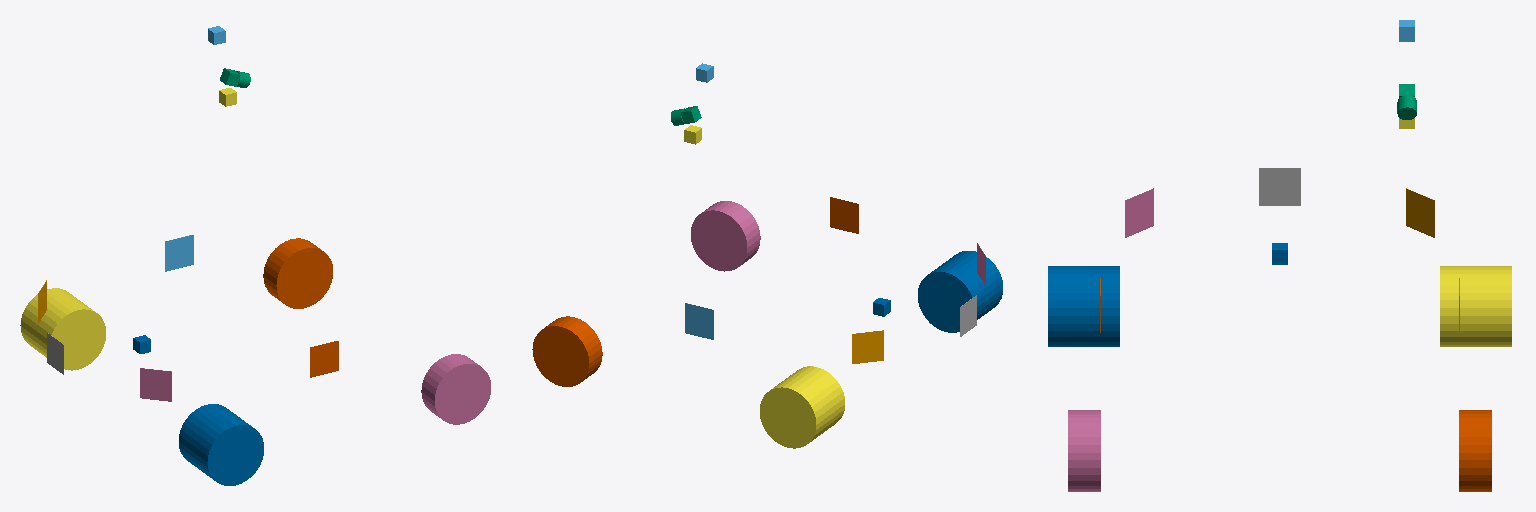
robot.urdf — rigatoni:
<?xml version="1.0" ?>
<!-- =================================================================================== -->
<!-- |    This document was autogenerated by xacro from rigatoni.urdf.xacro            | -->
<!-- |    EDITING THIS FILE BY HAND IS NOT RECOMMENDED                                 | -->
<!-- =================================================================================== -->
<robot name="rigatoni">
  <!-- <xacro:include filename="$(find velodyne_description)/urdf/VLP-16.urdf.xacro"/> -->
  <!-- <xacro:include filename="$(find rr_description)/" -->
  <!-- ************************** Links *************************** -->
  <link name="base_footprint">
    <inertial>
      <mass value="0.0001"/>
      <inertia ixx="0.0001" ixy="0" ixz="0" iyy="0.0001" iyz="0" izz="0.0001"/>
    </inertial>
  </link>
  <link name="body_visual_origin">
    <inertial>
      <mass value="0.0001"/>
      <inertia ixx="0.0001" ixy="0" ixz="0" iyy="0.0001" iyz="0" izz="0.0001"/>
    </inertial>
    <visual>
      <geometry>
        <!-- <mesh filename="$(find rr_description)/meshes/rigatoni.stl" scale="0.01 0.01 0.01"/> -->
      </geometry>
    </visual>
    <!--            <collision>-->
    <!--                <xacro:mesh_geometry/>-->
    <!--            </collision>-->
  </link>
  <gazebo reference="body_visual_origin">
    <material>Gazebo/Grey</material>
  </gazebo>
  <gazebo reference="body_visual_origin">
    <collision>
      <surface>
        <contact>
          <collide_bitmask>0x1</collide_bitmask>
        </contact>
      </surface>
    </collision>
  </gazebo>
  <link name="body_inertial_center">
    <inertial>
      <mass value="50"/>
      <inertia ixx="0.5" ixy="0" ixz="0" iyy="0.75" iyz="0" izz="0.5"/>
    </inertial>
  </link>
  <gazebo reference="body_inertial_center"/>
  <!-- ************************** Joints *************************** -->
  <joint name="base_footprint_to_mesh_origin" type="fixed">
    <parent link="base_footprint"/>
    <child link="body_visual_origin"/>
    <origin rpy="1.5707963267948966 0 1.5707963267948966" xyz="0.53 0 -0.05"/>
  </joint>
  <joint name="base_footprint_to_body_inertial_center" type="fixed">
    <parent link="base_footprint"/>
    <child link="body_inertial_center"/>
    <origin xyz="0.4 0 0.1"/>
  </joint>
  <link name="wheel_BL">
    <inertial>
      <mass value="0.01"/>
      <inertia ixx="0.001" ixy="0" ixz="0" iyy="0.001" iyz="0" izz="0.0078125"/>
    </inertial>
    <visual>
      <geometry>
        <cylinder length="0.22" radius="0.125"/>
      </geometry>
    </visual>
    <collision>
      <geometry>
        <cylinder length="0.22" radius="0.125"/>
      </geometry>
    </collision>
  </link>
  <gazebo reference="wheel_BL">
    <mu1>0.7</mu1>
    <mu2>0.7</mu2>
    <kp>1000000</kp>
    <kd>1000000</kd>
    <collision>
      <surface>
        <contact>
          <collide_bitmask>0x1</collide_bitmask>
        </contact>
      </surface>
    </collision>
  </gazebo>
  <gazebo reference="wheel_BL">
    <material>Gazebo/Black</material>
  </gazebo>
  <link name="wheel_BR">
    <inertial>
      <mass value="0.01"/>
      <inertia ixx="0.001" ixy="0" ixz="0" iyy="0.001" iyz="0" izz="0.0078125"/>
    </inertial>
    <visual>
      <geometry>
        <cylinder length="0.22" radius="0.125"/>
      </geometry>
    </visual>
    <collision>
      <geometry>
        <cylinder length="0.22" radius="0.125"/>
      </geometry>
    </collision>
  </link>
  <gazebo reference="wheel_BR">
    <mu1>0.7</mu1>
    <mu2>0.7</mu2>
    <kp>1000000</kp>
    <kd>1000000</kd>
    <collision>
      <surface>
        <contact>
          <collide_bitmask>0x1</collide_bitmask>
        </contact>
      </surface>
    </collision>
  </gazebo>
  <gazebo reference="wheel_BR">
    <material>Gazebo/Black</material>
  </gazebo>
  <link name="wheel_FL">
    <inertial>
      <mass value="0.01"/>
      <inertia ixx="0.001" ixy="0" ixz="0" iyy="0.001" iyz="0" izz="0.0078125"/>
    </inertial>
    <visual>
      <geometry>
        <cylinder length="0.1" radius="0.125"/>
      </geometry>
    </visual>
    <collision>
      <geometry>
        <cylinder length="0.1" radius="0.125"/>
      </geometry>
    </collision>
  </link>
  <gazebo reference="wheel_FL">
    <mu1>0.7</mu1>
    <mu2>0.7</mu2>
    <kp>1000000</kp>
    <kd>1000000</kd>
    <collision>
      <surface>
        <contact>
          <collide_bitmask>0x1</collide_bitmask>
        </contact>
      </surface>
    </collision>
  </gazebo>
  <gazebo reference="wheel_FL">
    <material>Gazebo/Black</material>
  </gazebo>
  <link name="wheel_FR">
    <inertial>
      <mass value="0.01"/>
      <inertia ixx="0.001" ixy="0" ixz="0" iyy="0.001" iyz="0" izz="0.0078125"/>
    </inertial>
    <visual>
      <geometry>
        <cylinder length="0.1" radius="0.125"/>
      </geometry>
    </visual>
    <collision>
      <geometry>
        <cylinder length="0.1" radius="0.125"/>
      </geometry>
    </collision>
  </link>
  <gazebo reference="wheel_FR">
    <mu1>0.7</mu1>
    <mu2>0.7</mu2>
    <kp>1000000</kp>
    <kd>1000000</kd>
    <collision>
      <surface>
        <contact>
          <collide_bitmask>0x1</collide_bitmask>
        </contact>
      </surface>
    </collision>
  </gazebo>
  <gazebo reference="wheel_FR">
    <material>Gazebo/Black</material>
  </gazebo>
  <link name="steering_link_left">
    <inertial>
      <mass value="0.0001"/>
      <inertia ixx="0.0001" ixy="0" ixz="0" iyy="0.0001" iyz="0" izz="0.0001"/>
    </inertial>
  </link>
  <link name="steering_link_right">
    <inertial>
      <mass value="0.0001"/>
      <inertia ixx="0.0001" ixy="0" ixz="0" iyy="0.0001" iyz="0" izz="0.0001"/>
    </inertial>
  </link>
  <link name="gps_link">
    <inertial>
      <mass value="0.0001"/>
      <inertia ixx="0.0001" ixy="0" ixz="0" iyy="0.0001" iyz="0" izz="0.0001"/>
    </inertial>
    <visual>
      <geometry>
        <box size="0.05 0.05 0.05"/>
      </geometry>
    </visual>
  </link>
  <gazebo reference="gps_link">
    <material>Gazebo/Gold</material>
  </gazebo>
  <link name="camera">
    <inertial>
      <mass value="0.0001"/>
      <inertia ixx="0.0001" ixy="0" ixz="0" iyy="0.0001" iyz="0" izz="0.0001"/>
    </inertial>
    <visual>
      <geometry>
        <box size="0.05 0.05 0.05"/>
      </geometry>
    </visual>
    <visual>
      <origin rpy="0 1.5707963267948966 0" xyz="0.05 0 0"/>
      <geometry>
        <cylinder length="0.05" radius="0.03"/>
      </geometry>
    </visual>
  </link>
  <gazebo reference="camera">
    <material>Gazebo/Gold</material>
  </gazebo>
  <link name="imu_top_link">
    <inertial>
      <mass value="0.0001"/>
      <inertia ixx="0.0001" ixy="0" ixz="0" iyy="0.0001" iyz="0" izz="0.0001"/>
    </inertial>
    <visual>
      <geometry>
        <box size="0.05 0.05 0.05"/>
      </geometry>
    </visual>
  </link>
  <gazebo reference="imu_top_link">
    <material>Gazebo/Gold</material>
  </gazebo>
  <link name="imu_bottom_link">
    <inertial>
      <mass value="0.0001"/>
      <inertia ixx="0.0001" ixy="0" ixz="0" iyy="0.0001" iyz="0" izz="0.0001"/>
    </inertial>
    <visual>
      <geometry>
        <box size="0.05 0.05 0.05"/>
      </geometry>
    </visual>
  </link>
  <gazebo reference="imu_bottom_link">
    <material>Gazebo/Gold</material>
  </gazebo>
  <link name="april_2">
    <inertial>
      <mass value="0.0001"/>
      <inertia ixx="0.0001" ixy="0" ixz="0" iyy="0.0001" iyz="0" izz="0.0001"/>
    </inertial>
    <visual>
      <geometry>
        <box size="0.001 0.127 0.127 "/>
      </geometry>
    </visual>
  </link>
  <gazebo reference="april_2">
    <material>tag36_11_00052</material>
  </gazebo>
  <link name="april_3">
    <inertial>
      <mass value="0.0001"/>
      <inertia ixx="0.0001" ixy="0" ixz="0" iyy="0.0001" iyz="0" izz="0.0001"/>
    </inertial>
    <visual>
      <geometry>
        <box size="0.001 0.127 0.127 "/>
      </geometry>
    </visual>
  </link>
  <gazebo reference="april_3">
    <material>tag36_11_00053</material>
  </gazebo>
  <link name="april_4">
    <inertial>
      <mass value="0.0001"/>
      <inertia ixx="0.0001" ixy="0" ixz="0" iyy="0.0001" iyz="0" izz="0.0001"/>
    </inertial>
    <visual>
      <geometry>
        <box size="0.001 0.127 0.127 "/>
      </geometry>
    </visual>
  </link>
  <gazebo reference="april_4">
    <material>tag36_11_00054</material>
  </gazebo>
  <link name="april_5">
    <inertial>
      <mass value="0.0001"/>
      <inertia ixx="0.0001" ixy="0" ixz="0" iyy="0.0001" iyz="0" izz="0.0001"/>
    </inertial>
    <visual>
      <geometry>
        <box size="0.001 0.127 0.127 "/>
      </geometry>
    </visual>
  </link>
  <gazebo reference="april_5">
    <material>tag36_11_00055</material>
  </gazebo>
  <link name="april_6">
    <inertial>
      <mass value="0.0001"/>
      <inertia ixx="0.0001" ixy="0" ixz="0" iyy="0.0001" iyz="0" izz="0.0001"/>
    </inertial>
    <visual>
      <geometry>
        <box size="0.001 0.127 0.127 "/>
      </geometry>
    </visual>
  </link>
  <gazebo reference="april_6">
    <material>tag36_11_00056</material>
  </gazebo>
  <!-- ************************** Joints *************************** -->
  <joint name="base_footprint_to_wheel_BL" type="continuous">
    <parent link="base_footprint"/>
    <child link="wheel_BL"/>
    <origin rpy="-1.5707963267948966 0 0" xyz="0 0.6 0.0325"/>
    <axis xyz="0 0 1"/>
  </joint>
  <gazebo reference="base_footprint_to_wheel_BL"/>
  <joint name="base_footprint_to_wheel_BR" type="continuous">
    <parent link="base_footprint"/>
    <child link="wheel_BR"/>
    <origin rpy="-1.5707963267948966 0 0" xyz="0 -0.6 0.0325"/>
    <axis xyz="0 0 1"/>
  </joint>
  <gazebo reference="base_footprint_to_wheel_BR"/>
  <joint name="base_footprint_to_steering_link_left" type="revolute">
    <parent link="base_footprint"/>
    <child link="steering_link_left"/>
    <origin rpy="0 0 0" xyz="1.03 0.6 0.0625"/>
    <axis xyz="0 0 1"/>
    <limit effort="10000.0" lower="-0.3" upper="0.3" velocity="2.0"/>
  </joint>
  <gazebo reference="base_footprint_to_steering_link_left"/>
  <joint name="steering_link_left_to_wheel_FL" type="continuous">
    <origin rpy="1.5707963267948966 0 0" xyz="0 0 -0.037"/>
    <parent link="steering_link_left"/>
    <child link="wheel_FL"/>
    <axis xyz="0 0 1"/>
  </joint>
  <gazebo reference="steering_link_left_to_wheel_FL"/>
  <joint name="base_footprint_to_steering_link_right" type="revolute">
    <parent link="base_footprint"/>
    <child link="steering_link_right"/>
    <origin rpy="0 0 0" xyz="1.03 -0.6 0.0625"/>
    <axis xyz="0 0 1"/>
    <limit effort="10000.0" lower="-0.3" upper="0.3" velocity="2.0"/>
  </joint>
  <gazebo reference="base_footprint_to_steering_link_right"/>
  <joint name="steering_link_right_to_wheel_FR" type="continuous">
    <origin rpy="1.5707963267948966 0 0" xyz="0 0 -0.037"/>
    <parent link="steering_link_right"/>
    <child link="wheel_FR"/>
    <axis xyz="0 0 1"/>
  </joint>
  <gazebo reference="steering_link_right_to_wheel_FR"/>
  <link name="camera_optical">
    <inertial>
      <mass value="0.0001"/>
      <inertia ixx="0.0001" ixy="0" ixz="0" iyy="0.0001" iyz="0" izz="0.0001"/>
    </inertial>
  </link>
  <joint name="camera_to_optical" type="fixed">
    <parent link="camera"/>
    <child link="camera_optical"/>
    <origin rpy="-1.5707963267948966 0 -1.5707963267948966" xyz="0 0 0"/>
  </joint>
  <joint name="base_footprint_to_gps_link" type="fixed">
    <parent link="base_footprint"/>
    <child link="gps_link"/>
    <origin rpy="0 0 0" xyz="0.55 0.39 1.22"/>
  </joint>
  <joint name="base_footprint_to_camera" type="fixed">
    <parent link="base_footprint"/>
    <child link="camera"/>
    <origin rpy="0 0.4 0" xyz="0.61 0.39 1.03"/>
  </joint>
  <joint name="base_footprint_to_imu_bottom_link" type="fixed">
    <parent link="base_footprint"/>
    <child link="imu_bottom_link"/>
    <origin rpy="0 0 0" xyz="0 0 0.21"/>
  </joint>
  <joint name="base_footprint_to_imu_top_link" type="fixed">
    <parent link="base_footprint"/>
    <child link="imu_top_link"/>
    <origin rpy="0 0 0" xyz="0.60 0.39 0.95"/>
  </joint>
  <joint name="base_footprint_to_april_2" type="fixed">
    <parent link="base_footprint"/>
    <child link="april_2"/>
    <origin rpy="0 0 1.5707963267948966" xyz=".48  -0.55 0.26"/>
  </joint>
  <joint name="base_footprint_to_april_3" type="fixed">
    <parent link="base_footprint"/>
    <child link="april_3"/>
    <origin rpy="0 0 0.7853981633974483" xyz="-.19 -0.43 0.26"/>
  </joint>
  <joint name="base_footprint_to_april_4" type="fixed">
    <parent link="base_footprint"/>
    <child link="april_4"/>
    <origin rpy="0 0 0" xyz="-.38  0    0.26"/>
  </joint>
  <joint name="base_footprint_to_april_5" type="fixed">
    <parent link="base_footprint"/>
    <child link="april_5"/>
    <origin rpy="0 0 -0.7853981633974483" xyz="-.19  0.43 0.26"/>
  </joint>
  <joint name="base_footprint_to_april_6" type="fixed">
    <parent link="base_footprint"/>
    <child link="april_6"/>
    <origin rpy="0 0 1.5707963267948966" xyz=".48   0.55 0.26"/>
  </joint>
  <!-- ******************* Sensors *********************** -->
  <!-- Velodyne Puck VLP-16 -->
  <!-- <xacro:VLP-16 parent="base_footprint" name="lidar" topic="/velodyne_points" hz="10" samples="500" gpu="true">
        <origin xyz="1.175 0 0.175" rpy="0 0 0" />
    </xacro:VLP-16> -->
  <!-- FLIR Blackfly + wide-angle lens -->
  <gazebo reference="camera">
    <sensor name="camera_sensor" type="camera">
      <camera>
        <horizontal_fov>1.6955</horizontal_fov>
        <image>
          <width>1280</width>
          <height>964</height>
          <format>R8G8B8</format>
        </image>
        <clip>
          <near>0.05</near>
          <far>100</far>
        </clip>
        <noise>
          <type>gaussian</type>
          <mean>0.0</mean>
          <stddev>0.007</stddev>
        </noise>
      </camera>
      <always_on>true</always_on>
      <update_rate>15</update_rate>
      <plugin filename="libgazebo_ros_camera.so" name="camera_controller">
        <alwaysOn>true</alwaysOn>
        <cameraName>camera</cameraName>
        <imageTopicName>image_color_rect</imageTopicName>
        <cameraInfoTopicName>camera_info</cameraInfoTopicName>
        <frameName>camera_optical</frameName>
        <distortionK1>0.0</distortionK1>
        <distortionK2>0.0</distortionK2>
        <distortionK3>0.0</distortionK3>
        <distortionT1>0.0</distortionT1>
        <distortionT2>0.0</distortionT2>
      </plugin>
    </sensor>
  </gazebo>
  <!-- IMU -->
  <gazebo reference="imu_top_link">
    <gravity>true</gravity>
    <sensor name="imu_sensor" type="imu">
      <always_on>true</always_on>
      <update_rate>100</update_rate>
      <visualize>true</visualize>
      <topic>__default_topic__</topic>
      <plugin filename="libgazebo_ros_imu_sensor.so" name="imu_plugin">
        <topicName>imu_top</topicName>
        <bodyName>imu_top_link</bodyName>
        <updateRateHZ>20.0</updateRateHZ>
        <gaussianNoise>0.005</gaussianNoise>
        <xyzOffset>0 0 0</xyzOffset>
        <rpyOffset>0 0 0</rpyOffset>
        <frameName>imu_top_link</frameName>
      </plugin>
      <pose>0 0 0 0 0 0</pose>
    </sensor>
  </gazebo>
  <!-- IMU -->
  <gazebo reference="imu_bottom_link">
    <gravity>true</gravity>
    <sensor name="imu_sensor_bottom" type="imu">
      <always_on>true</always_on>
      <update_rate>100</update_rate>
      <visualize>true</visualize>
      <topic>__default_topic__</topic>
      <plugin filename="libgazebo_ros_imu_sensor.so" name="imu_plugin">
        <topicName>imu_bottom</topicName>
        <bodyName>imu_bottom_link</bodyName>
        <updateRateHZ>20.0</updateRateHZ>
        <gaussianNoise>0.005</gaussianNoise>
        <xyzOffset>0 0 0</xyzOffset>
        <rpyOffset>0 0 0</rpyOffset>
        <frameName>imu_bottom_link</frameName>
      </plugin>
      <pose>0 0 0 0 0 0</pose>
    </sensor>
  </gazebo>
  <!-- GPS -->
  <gazebo>
    <plugin filename="libhector_gazebo_ros_gps.so" name="gps_controller">
      <robotNamespace>/</robotNamespace>
      <updateRate>10</updateRate>
      <bodyName>gps_link</bodyName>
      <frameId>gps_link</frameId>
      <topicName>gps/fix</topicName>
      <velocityTopicName>gps/vel</velocityTopicName>
      <referenceLatitude>33.8</referenceLatitude>
      <referenceLongitude>-84.4</referenceLongitude>
      <referenceHeading>0</referenceHeading>
      <referenceAltitude>0</referenceAltitude>
      <drift>0.2 0.2 0.2</drift>
      <driftFrequency>0.01 0.01 0.01</driftFrequency>
      <gaussianNoise>0.05 0.05 0.05</gaussianNoise>
      <velocityDrift>0.05 0.05 0.05</velocityDrift>
      <velocityDriftFrequency>0.1 0.1 0.1</velocityDriftFrequency>
      <velocityGaussianNoise>0.05 0.05 0.05</velocityGaussianNoise>
    </plugin>
  </gazebo>
  <!-- ground-truth localization plugin -->
  <gazebo>
    <plugin filename="libgazebo_ros_p3d.so" name="ground_truth_tracker">
      <alwaysOn>true</alwaysOn>
      <updateRate>10.0</updateRate>
      <bodyName>base_footprint</bodyName>
      <topicName>/odometry/ground_truth</topicName>
      <gaussianNoise>0.0</gaussianNoise>
      <frameName>world</frameName>
      <xyzOffsets>0 0 0</xyzOffsets>
      <rpyOffsets>0 0 0</rpyOffsets>
    </plugin>
  </gazebo>
  <!-- ****************** Actuators ********************** -->
  <gazebo>
    <plugin filename="libgazebo_ros2_control.so" name="gazebo_ros2_control">
      <robot_namespace>rigatoni</robot_namespace>
      <robot_param>robot_description</robot_param>
      <robot_param_node>robot_state_publisher</robot_param_node>
      <!-- <parameters>$(find rr_description)/src/conf/controller.yaml</parameters> -->
    </plugin>
  </gazebo>
  <ros2_control name="GazeboSystem" type="system">
    <hardware>
      <plugin>gazebo_ros2_control/GazeboSystem</plugin>
    </hardware>
    <joint name="base_footprint_to_wheel_BL">
      <command_interface name="effort">
        <param name="min">-1</param>
        <param name="max">1</param>
      </command_interface>
      <state_interface name="position"/>
      <state_interface name="velocity"/>
      <state_interface name="effort"/>
    </joint>
    <joint name="base_footprint_to_wheel_BR">
      <command_interface name="effort">
        <param name="min">-1</param>
        <param name="max">1</param>
      </command_interface>
      <state_interface name="position"/>
      <state_interface name="velocity"/>
      <state_interface name="effort"/>
    </joint>
    <joint name="base_footprint_to_steering_link_left">
      <command_interface name="position">
        <param name="min">-1</param>
        <param name="max">1</param>
      </command_interface>
      <state_interface name="position"/>
      <state_interface name="velocity"/>
    </joint>
    <joint name="base_footprint_to_steering_link_right">
      <command_interface name="position">
        <param name="min">-1</param>
        <param name="max">1</param>
      </command_interface>
      <state_interface name="position"/>
      <state_interface name="velocity"/>
    </joint>
  </ros2_control>
</robot>

--- What the picture shows (computed from the rendered views, not written in the file) ---
The picture shows the robot from 3 angles, left to right: view 1: azimuth 30°, elevation 25°; view 2: azimuth 150°, elevation 25°; view 3: azimuth 270°, elevation 25°; orthographic projection.
Model rigatoni with 19 links and 18 joints (2 revolute, 4 continuous, 12 fixed), rooted at base_footprint, posed every joint at zero.
Visible links, largest first — view 1: wheel_BR, wheel_BL, wheel_FL, wheel_FR, april_3, april_2, april_6; view 2: wheel_BL, wheel_BR, wheel_FL, wheel_FR, april_5, april_2, april_6; view 3: wheel_BL, wheel_BR, wheel_FL, wheel_FR, april_4, april_3, april_5, camera.
Link boxes in pixels (x1,y1,x2,y2): wheel_BR: [179, 404, 263, 485]; wheel_BL: [20, 288, 105, 370]; wheel_FL: [263, 238, 332, 308]; wheel_FR: [421, 354, 490, 424]; april_3: [140, 368, 171, 401]; april_2: [310, 341, 338, 377]; april_6: [165, 235, 193, 271]; wheel_BL: [760, 366, 844, 448]; wheel_BR: [918, 251, 1002, 332]; wheel_FL: [532, 316, 602, 386]; wheel_FR: [691, 201, 760, 271]; april_5: [852, 330, 883, 363]; april_2: [830, 197, 858, 233]; april_6: [685, 303, 713, 339]; wheel_BL: [1440, 266, 1511, 346]; wheel_BR: [1048, 266, 1119, 346]; wheel_FL: [1459, 410, 1491, 491]; wheel_FR: [1068, 410, 1100, 491]; april_4: [1259, 168, 1300, 205]; april_3: [1125, 188, 1153, 237]; april_5: [1406, 188, 1434, 237]; camera: [1397, 84, 1416, 119].
Size in the robot's own frame: 1.54 by 1.42 by 1.34 metres.
Geometry: primitives only (box / cylinder / sphere), no mesh files.